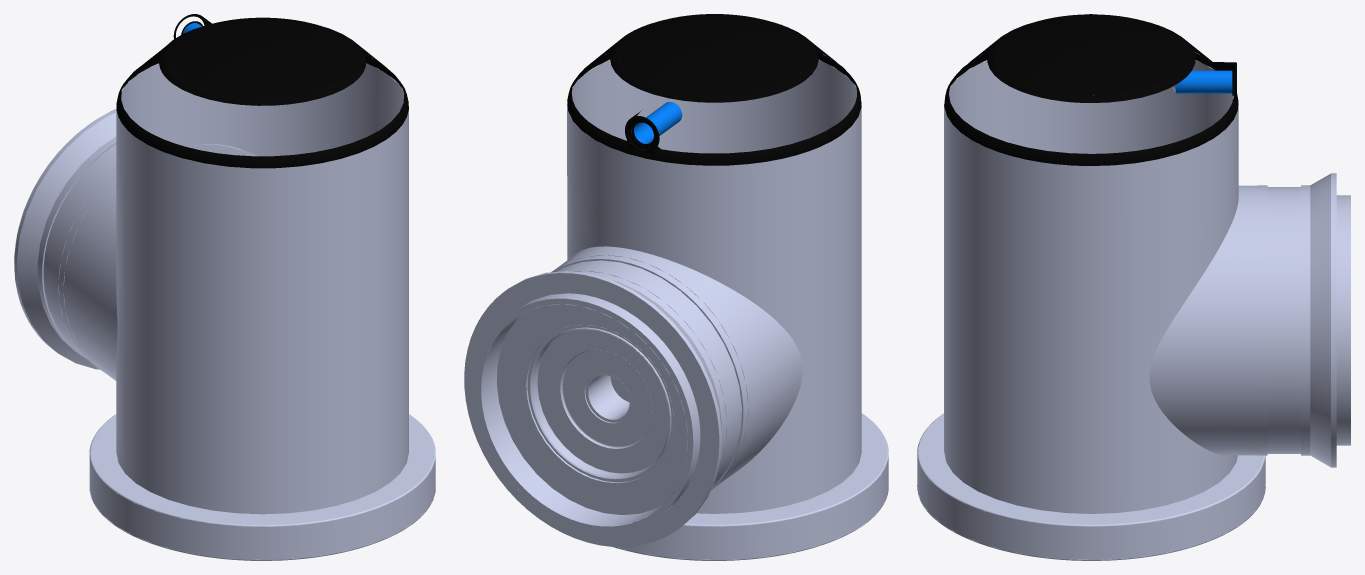
3 renders of one model, left to right at view 1: azimuth 30°, elevation 25°; view 2: azimuth 150°, elevation 25°; view 3: azimuth 270°, elevation 25°, orthographic.
Parts seen in each view (by area): view 1: j1.IGS (×3); view 2: j1.IGS (×3); view 3: j1.IGS (×3).
Boxes of the visible parts, <box> form: j1.IGS (×3): <box>14,14,435,560</box>; j1.IGS (×3): <box>464,14,888,560</box>; j1.IGS (×3): <box>917,14,1350,560</box>.
Size of the model in its own units: 0.219 by 0.3056 by 0.2725.
